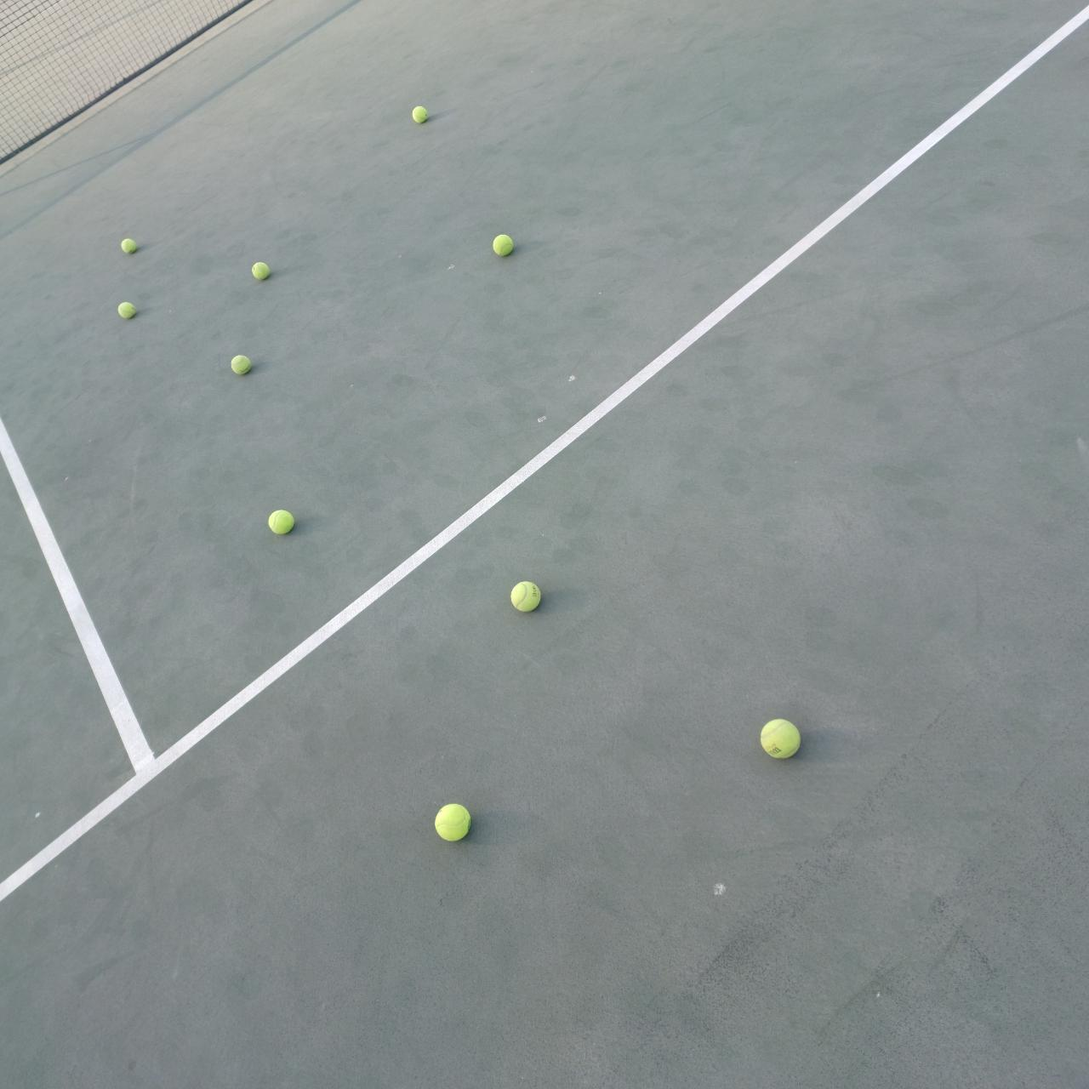tennis-ball: (758, 716, 801, 760), (433, 801, 471, 842), (509, 579, 542, 613), (265, 506, 294, 534), (490, 231, 513, 256), (229, 352, 251, 375), (249, 259, 271, 281), (116, 299, 136, 319), (410, 103, 429, 123), (118, 236, 137, 254)
